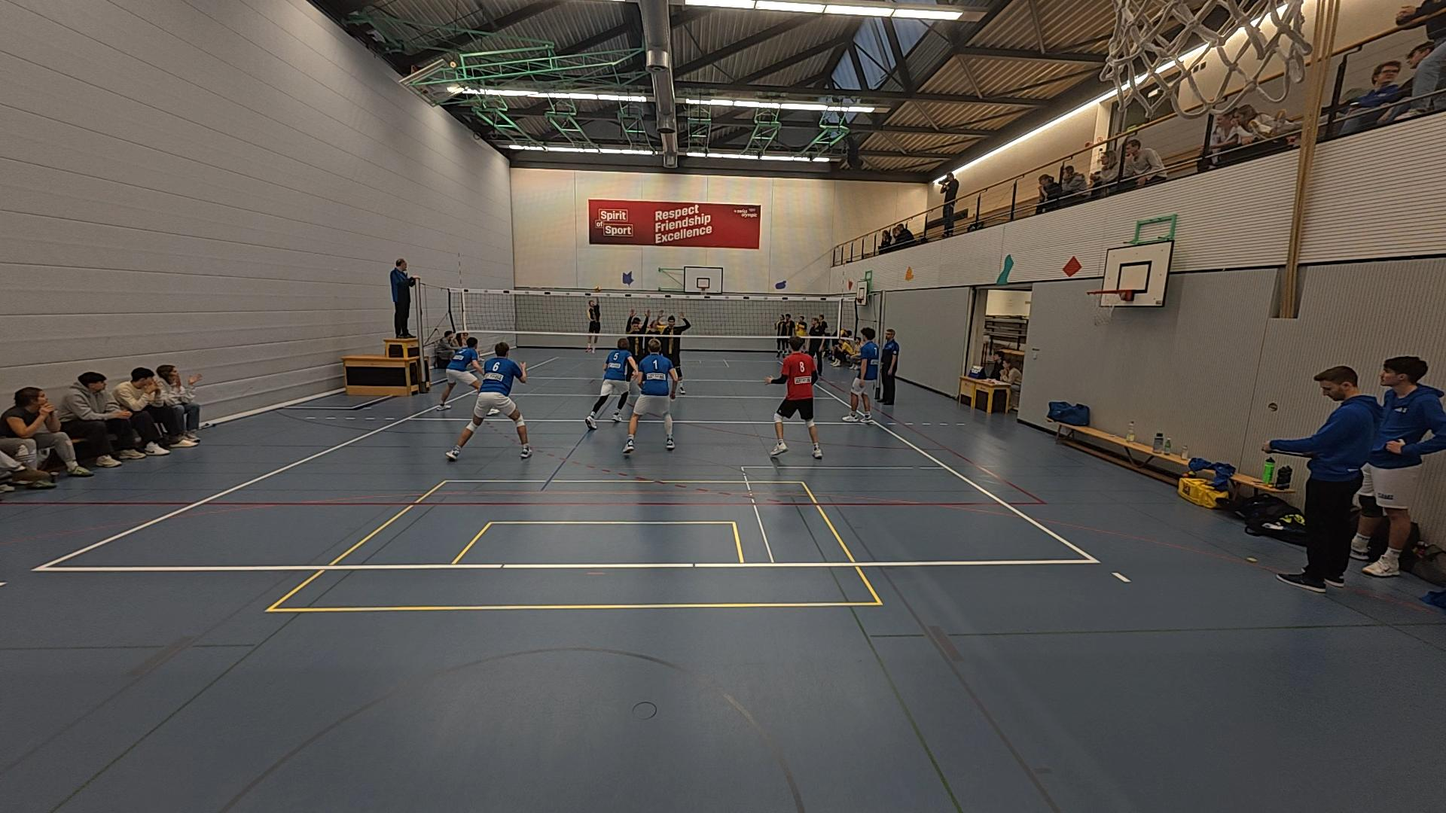Player: (446, 342, 532, 461), (770, 338, 822, 459), (623, 343, 678, 454), (585, 336, 639, 430), (435, 333, 484, 410), (653, 309, 693, 398), (846, 328, 882, 423), (584, 288, 606, 352)
ball: (624, 309, 652, 394), (901, 264, 917, 281), (594, 285, 601, 294)
